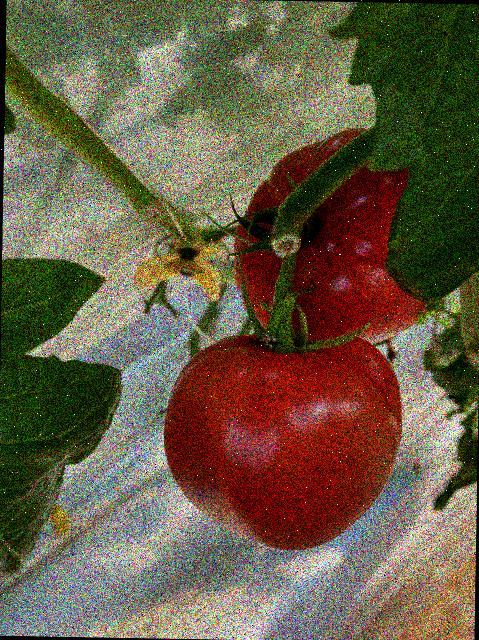b_fully_ripened: (159, 321, 404, 553), (230, 126, 436, 346)
